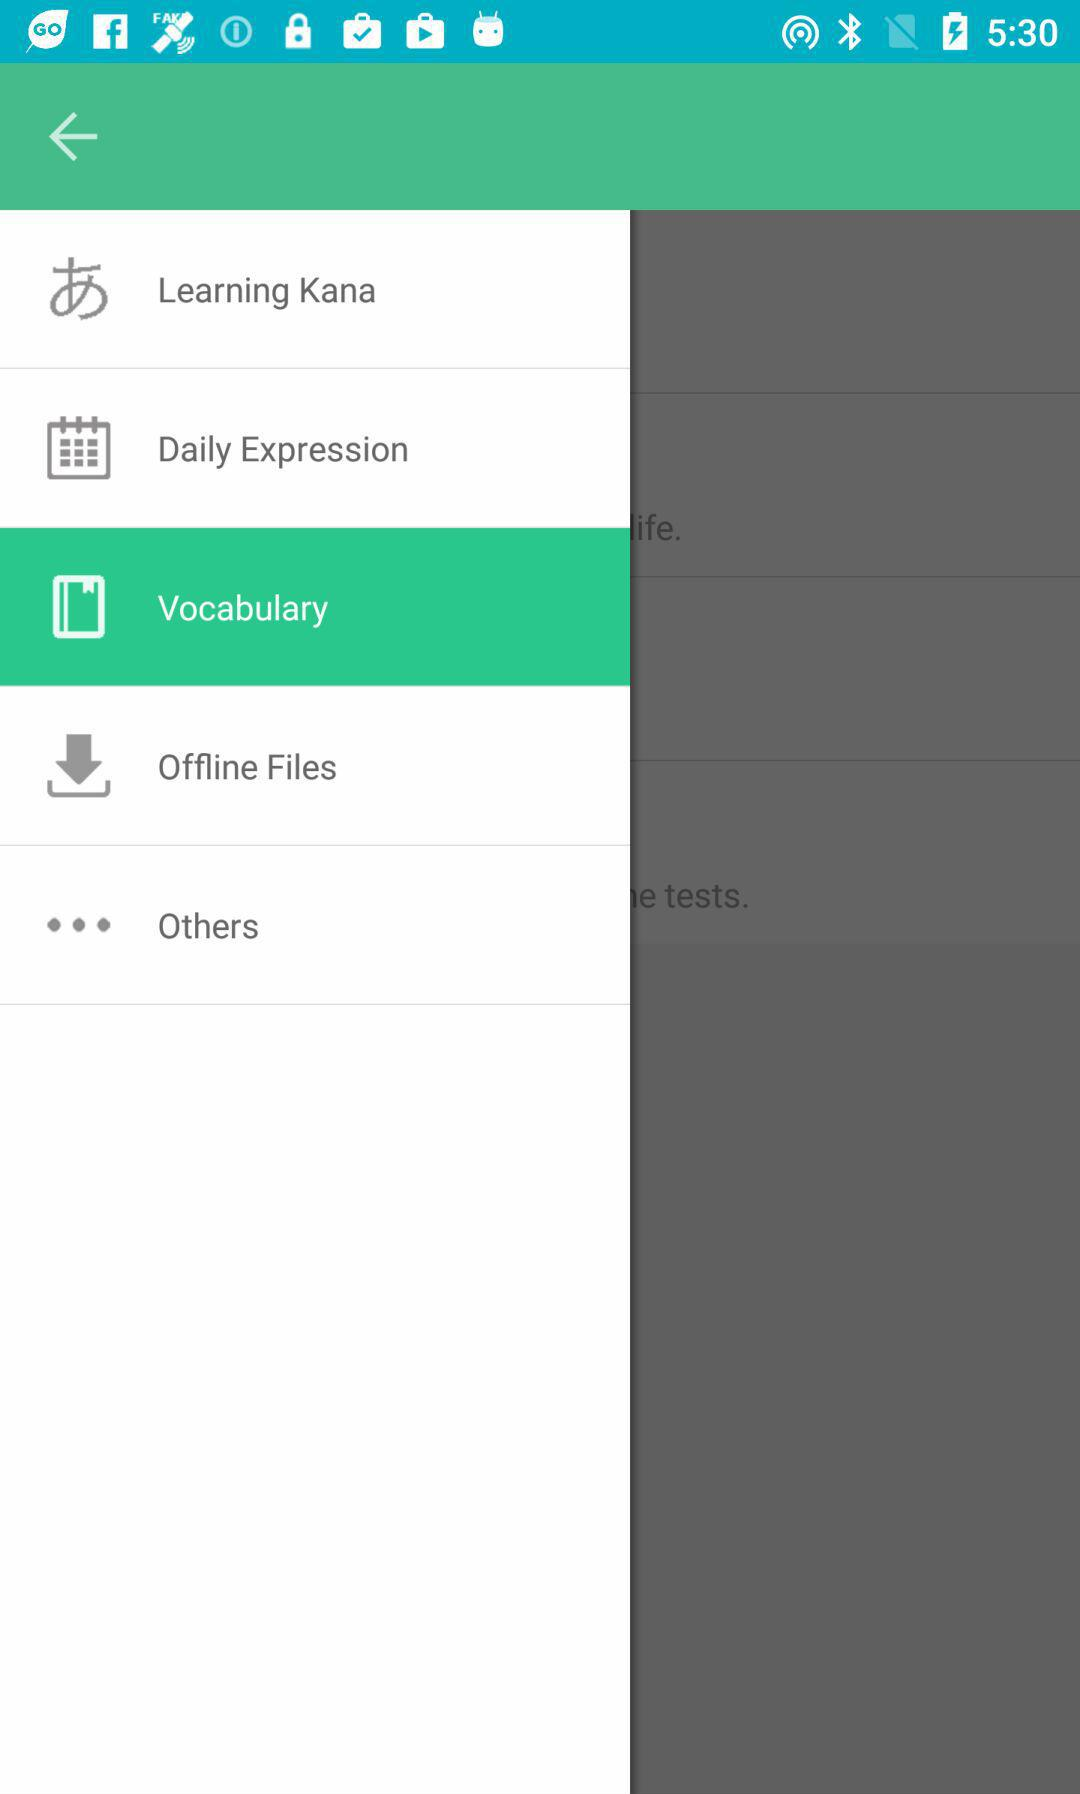Drawer: (1, 210, 632, 1794)
Icon: (46, 415, 113, 482), (46, 734, 113, 800), (49, 258, 110, 324), (51, 574, 108, 641), (47, 111, 101, 165), (46, 916, 113, 935)
Text: (158, 433, 410, 472), (159, 274, 378, 313), (156, 591, 331, 630), (159, 750, 340, 783), (158, 910, 261, 942)
Toolbar: (1, 64, 1080, 211)
UpperTaskBar: (1, 1, 1080, 64)
